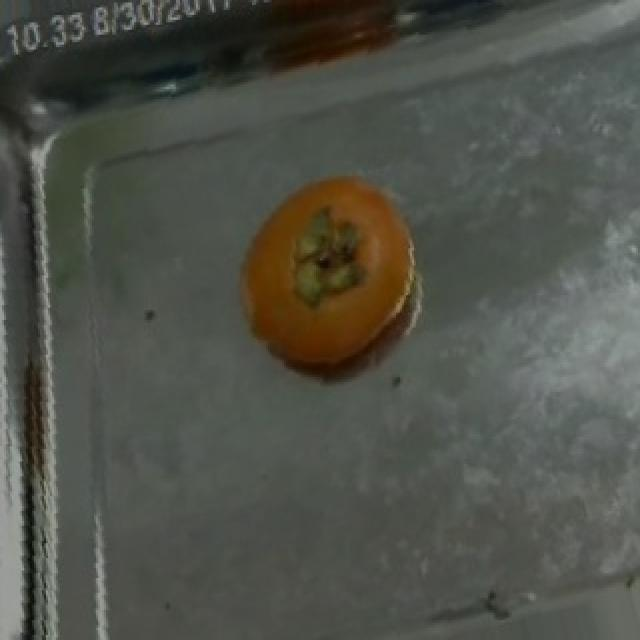Fruit: (214, 149, 440, 387)
